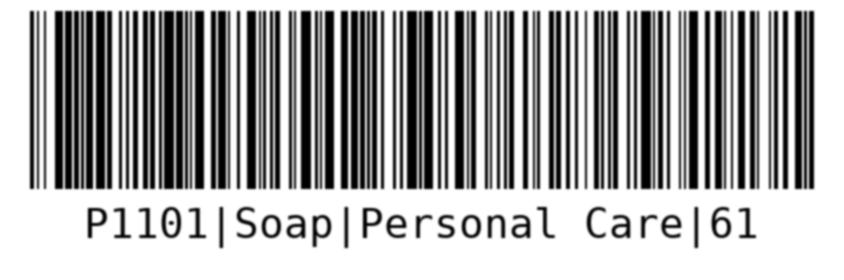milk: (23, 6, 820, 260)
